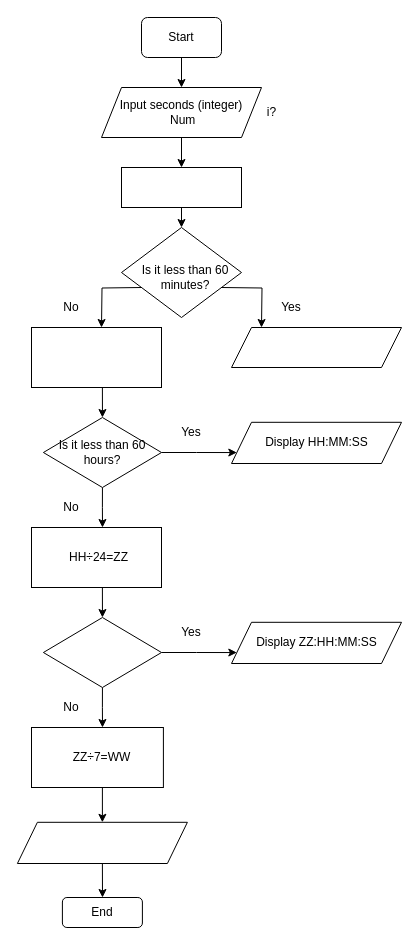
Image size: 420x945. Some labels were removed from this diagram. Here are the shapes that lost their labels. From the top down, the centre of each, then its label:
At point 181,187: "Num ÷ 60= MM".
At point 96,357: "MM÷60= HH".
At point 316,347: "Display 00:MM:SS".
At point 102,652: "Is it less than 7 days?".
At point 101,842: "Display WW:ZZ:HH:MM:SS".
